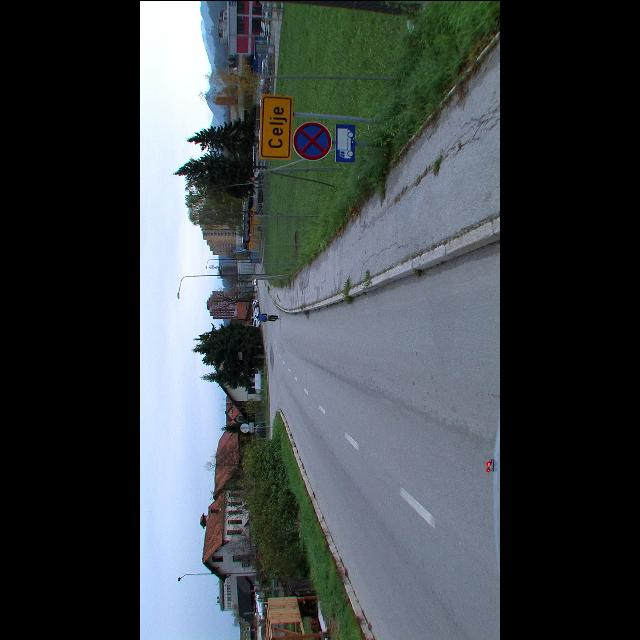Rectangle: (258, 94, 294, 158)
Round: (294, 120, 332, 160)
Squared: (334, 122, 356, 162)
